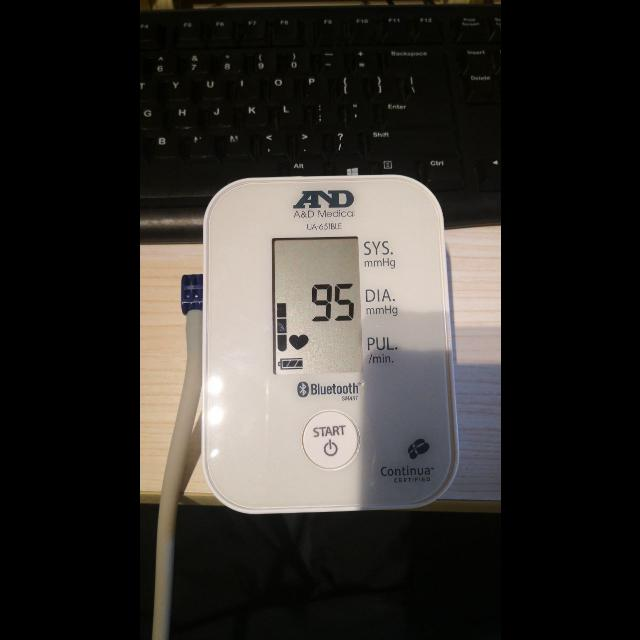Blood-Pressure-Monitor: (200, 173, 460, 514)
